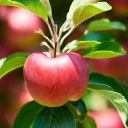apple: (22, 50, 90, 109)
